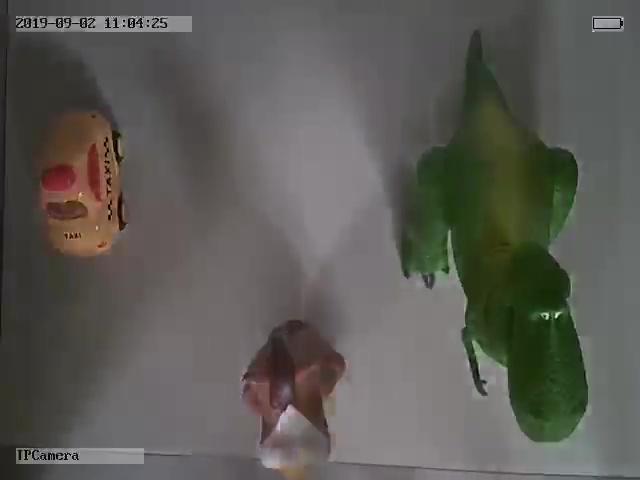car: (36, 105, 129, 260)
horse: (240, 320, 348, 480)
rex: (403, 44, 590, 444)
